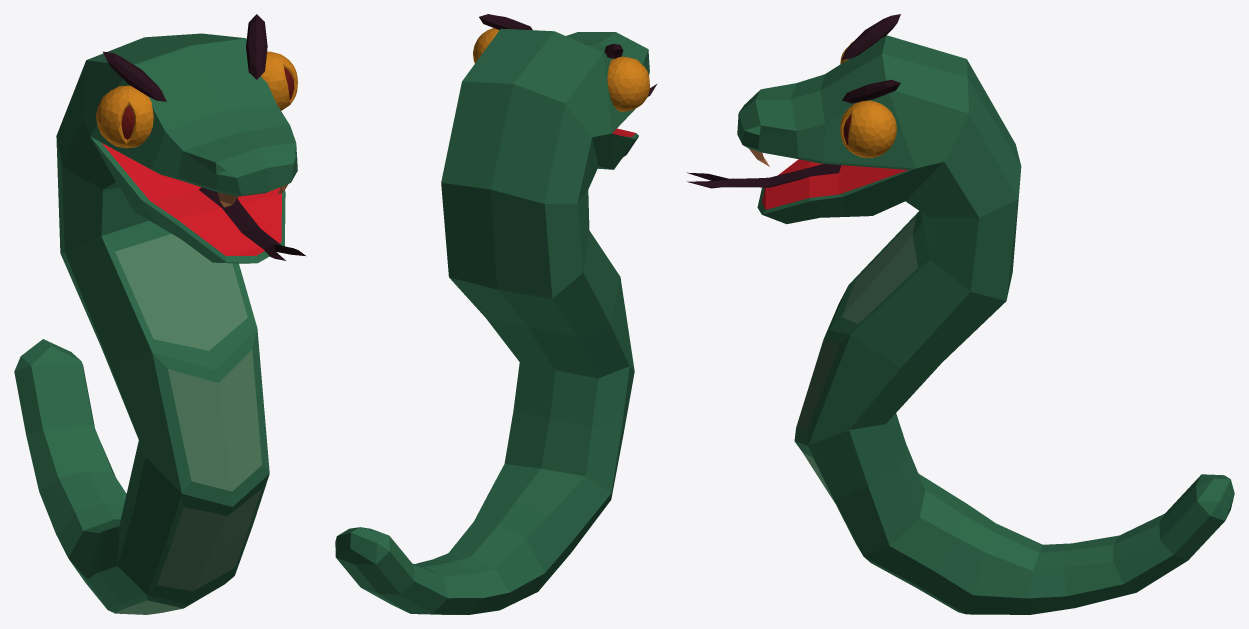
Rendered from Snake_angry.obj.
The picture shows the model from 3 angles, left to right: view 1: azimuth 30°, elevation 25°; view 2: azimuth 150°, elevation 25°; view 3: azimuth 270°, elevation 25°; orthographic projection. The views are drawn at different scales.
Visible parts, largest first — view 1: Snake_Cylinder; view 2: Snake_Cylinder; view 3: Snake_Cylinder.
Boxes of the visible parts, x1,y1,x2,y2 form: Snake_Cylinder: (14, 14, 306, 614); Snake_Cylinder: (335, 14, 656, 614); Snake_Cylinder: (687, 14, 1234, 614).
Bounding box in the file's own units: 1.05 × 3.15 × 2.81.
